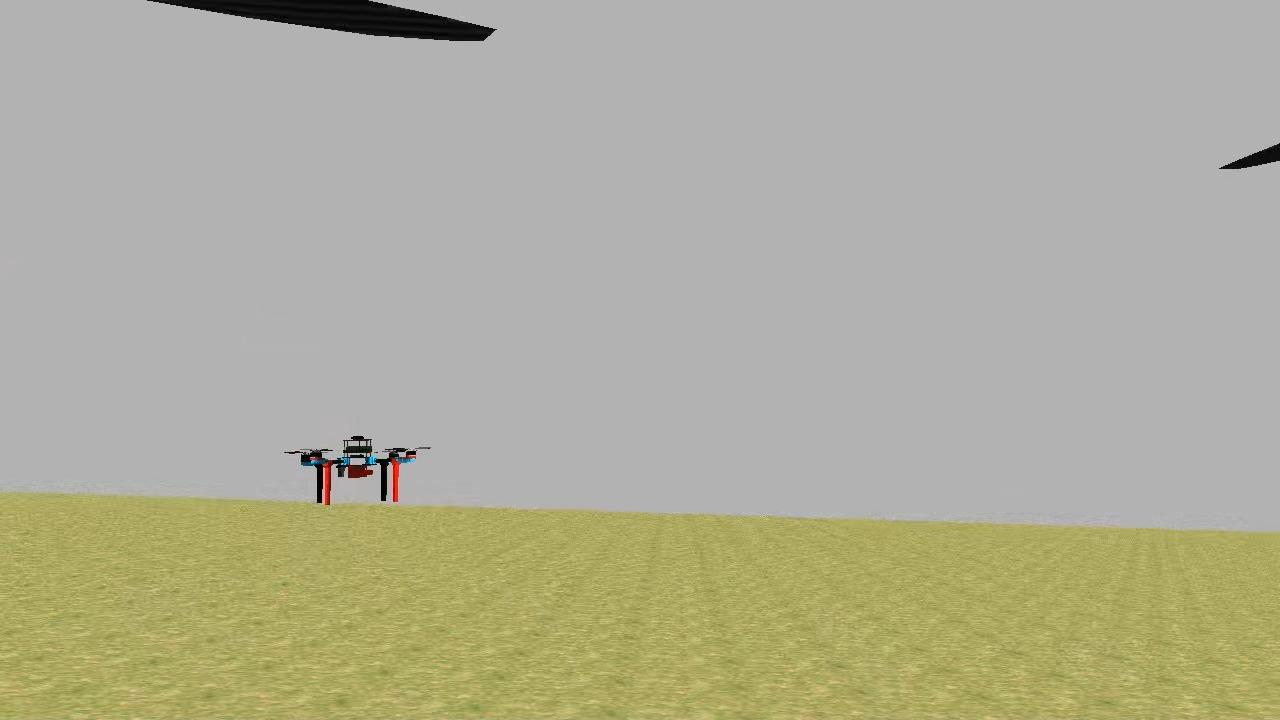UAV: (298, 428, 418, 506)
